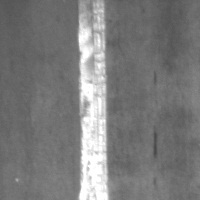inclusion: (147, 124, 162, 165)
scratches: (74, 1, 111, 198)
